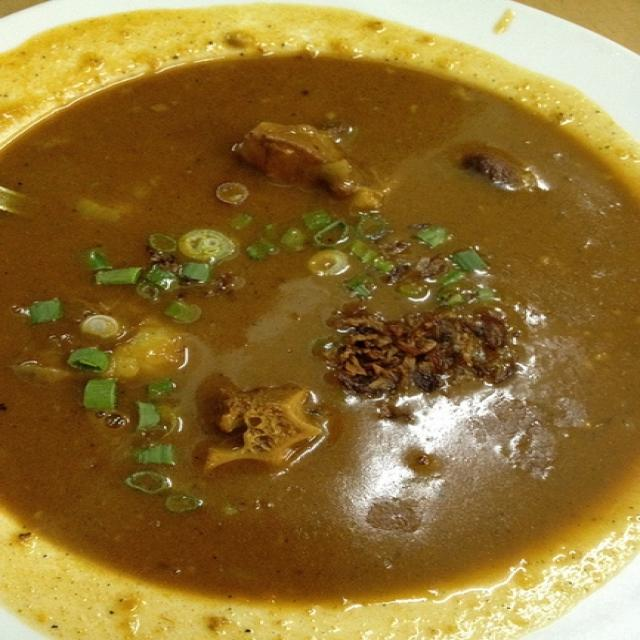汤锅炖物: (6, 21, 631, 616)
